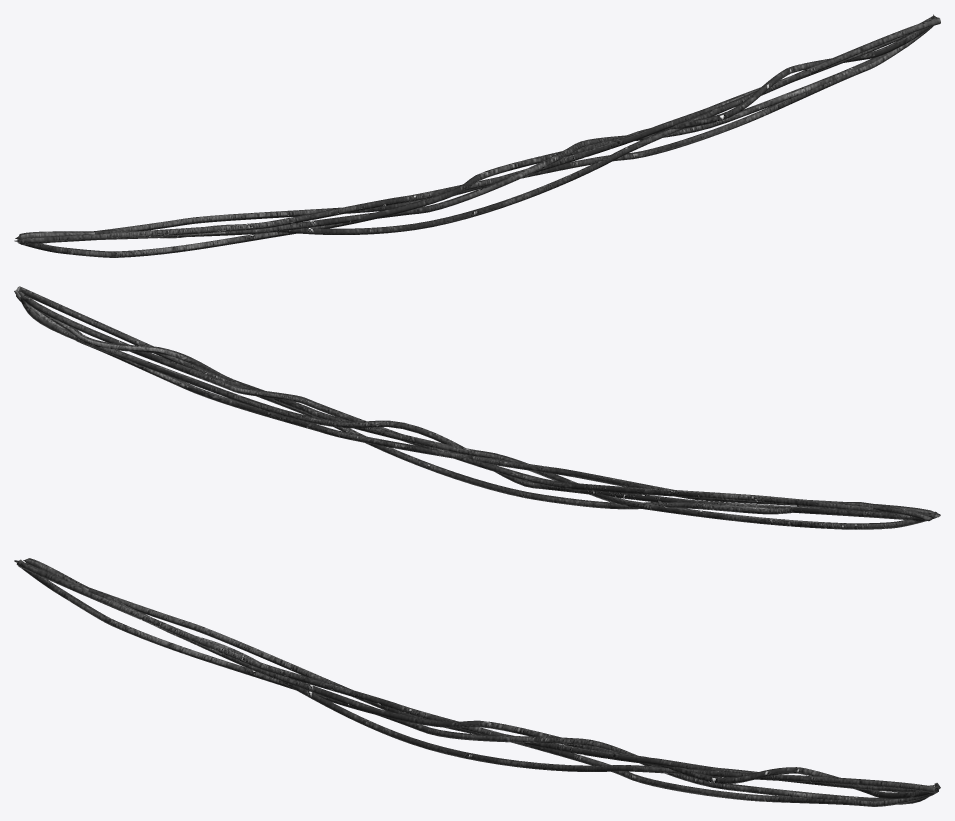
The model's file is Cable4.fbx.
3 views of the same model, one above another, from view 1: azimuth 30°, elevation 25°; view 2: azimuth 150°, elevation 25°; view 3: azimuth 330°, elevation 25° (orthographic).
Visible parts, largest first — view 1: Wire.002; view 2: Wire.002; view 3: Wire.002.
Boxes of the visible parts, x1=… form: Wire.002: x1=14, y1=14, x2=940, y2=257; Wire.002: x1=14, y1=286, x2=940, y2=529; Wire.002: x1=14, y1=558, x2=940, y2=806.
Bounding box in the file's own units: 5966 × 545 × 180.
